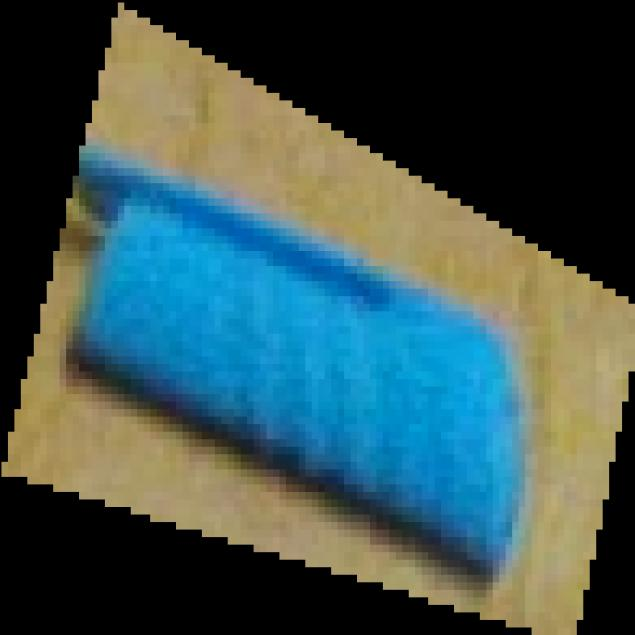blue: (0, 0, 635, 635)
